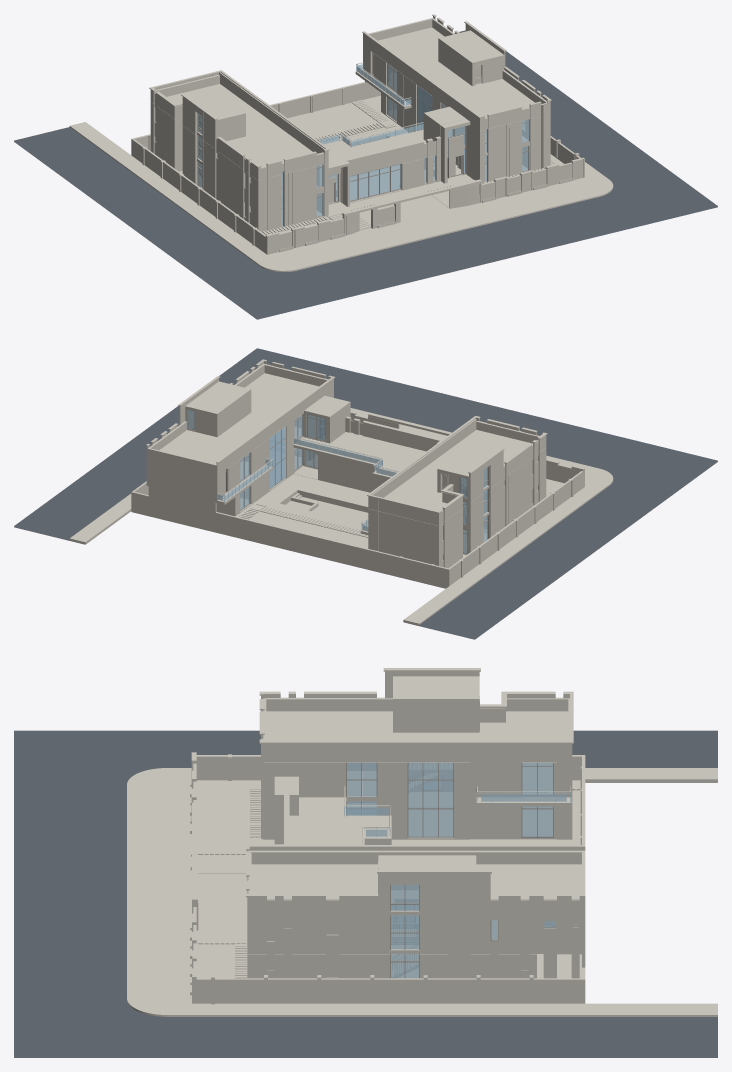
File: zulfiqar-villa.glb
The picture shows the model from 3 angles, top to bottom: view 1: azimuth 30°, elevation 25°; view 2: azimuth 150°, elevation 25°; view 3: azimuth 270°, elevation 25°; orthographic projection. The views are drawn at different scales.
Parts seen in each view (by area): view 1: stone, ground, glass, metal; view 2: stone, ground, glass, metal; view 3: stone, ground, glass, metal.
Boxes of the visible parts, x1,y1,x2,y2 form: stone: [69, 14, 613, 271]; ground: [14, 30, 717, 319]; glass: [198, 52, 528, 226]; metal: [197, 52, 529, 226]; stone: [69, 359, 613, 625]; ground: [14, 348, 717, 639]; glass: [187, 409, 487, 553]; metal: [187, 409, 488, 553]; stone: [127, 668, 717, 1016]; ground: [14, 730, 717, 1057]; glass: [344, 762, 570, 978]; metal: [346, 762, 555, 978].
Size of the model in its own units: 130 by 27.37 by 119.
